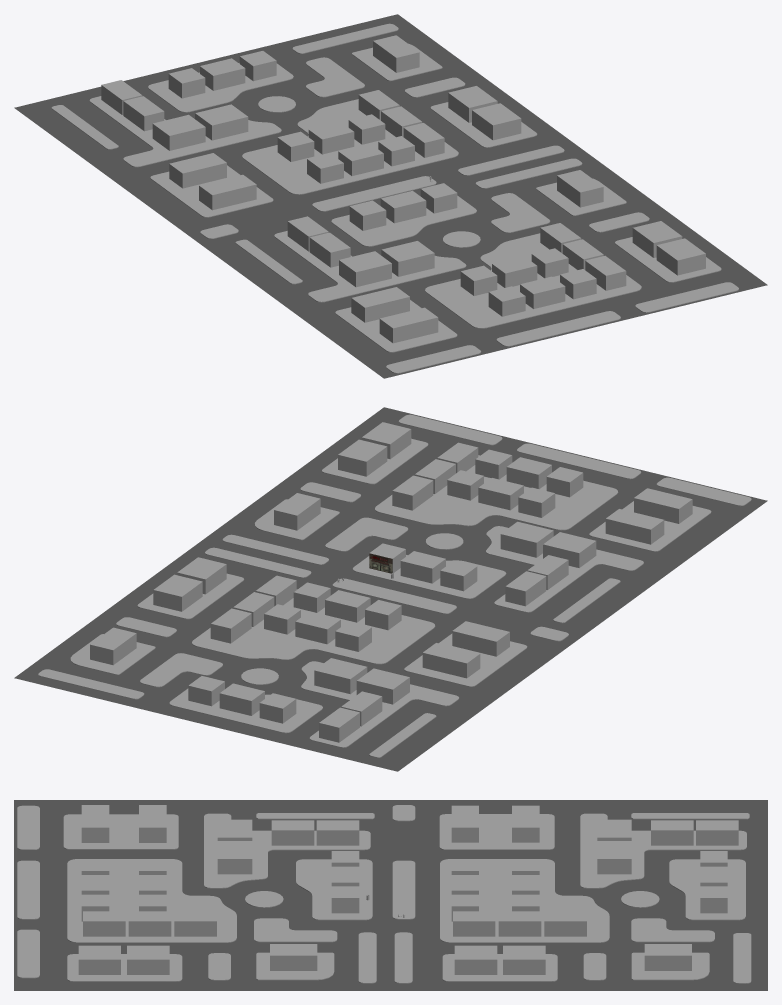
Rendered from mapBlockout.fbx.
3 renders of one model, top to bottom at view 1: azimuth 30°, elevation 25°; view 2: azimuth 150°, elevation 25°; view 3: azimuth 270°, elevation 25°, orthographic.
Visible parts, largest first — view 1: streetPlane, layout1, pCube70, pCube69, pCube67, pCube68, pCube64, pCube37, pCube60, pCube57, pCube63, pCube38 (+32 smaller); view 2: streetPlane, layout1, pCube69, pCube67, pCube70, pCube68, pCube59, pCube58, pCube63, pCube38, pCube37, pCube64 (+32 smaller); view 3: streetPlane, layout1, pCube57, pCube62, pCube61, pCube59, pCube58, pCube60, pCube38, pCube63, pCube36, pCube35 (+32 smaller).
Part boxes in pixels (<box>): streetPlane: <box>14,14,767,378</box>; layout1: <box>51,23,738,373</box>; pCube70: <box>379,307,438,343</box>; pCube69: <box>351,287,409,322</box>; pCube67: <box>169,153,226,188</box>; pCube68: <box>199,174,256,210</box>; pCube64: <box>152,114,205,150</box>; pCube37: <box>339,251,391,287</box>; pCube60: <box>656,238,705,275</box>; pCube57: <box>472,103,521,140</box>; pCube63: <box>195,104,248,140</box>; pCube38: <box>381,241,434,276</box>; streetPlane: <box>14,407,767,771</box>; layout1: <box>38,414,751,757</box>; pCube69: <box>605,509,664,544</box>; pCube67: <box>422,643,480,678</box>; pCube70: <box>634,488,692,523</box>; pCube68: <box>452,621,509,656</box>; pCube59: <box>338,439,387,476</box>; pCube58: <box>153,574,202,611</box>; pCube63: <box>314,658,367,694</box>; pCube38: <box>500,521,553,557</box>; pCube37: <box>543,532,596,567</box>; pCube64: <box>356,668,409,704</box>; streetPlane: <box>14,800,767,990</box>; layout1: <box>17,805,751,983</box>; pCube57: <box>454,945,497,974</box>; pCube62: <box>644,944,691,970</box>; pCube61: <box>270,944,317,970</box>; pCube59: <box>127,945,169,974</box>; pCube58: <box>503,945,545,974</box>; pCube60: <box>78,945,120,974</box>; pCube38: <box>217,841,252,874</box>; pCube63: <box>597,841,631,874</box>; pCube36: <box>271,820,314,845</box>; pCube35: <box>316,820,359,845</box>.
Bounding box in the file's own units: 81.31 × 3.55 × 136.
